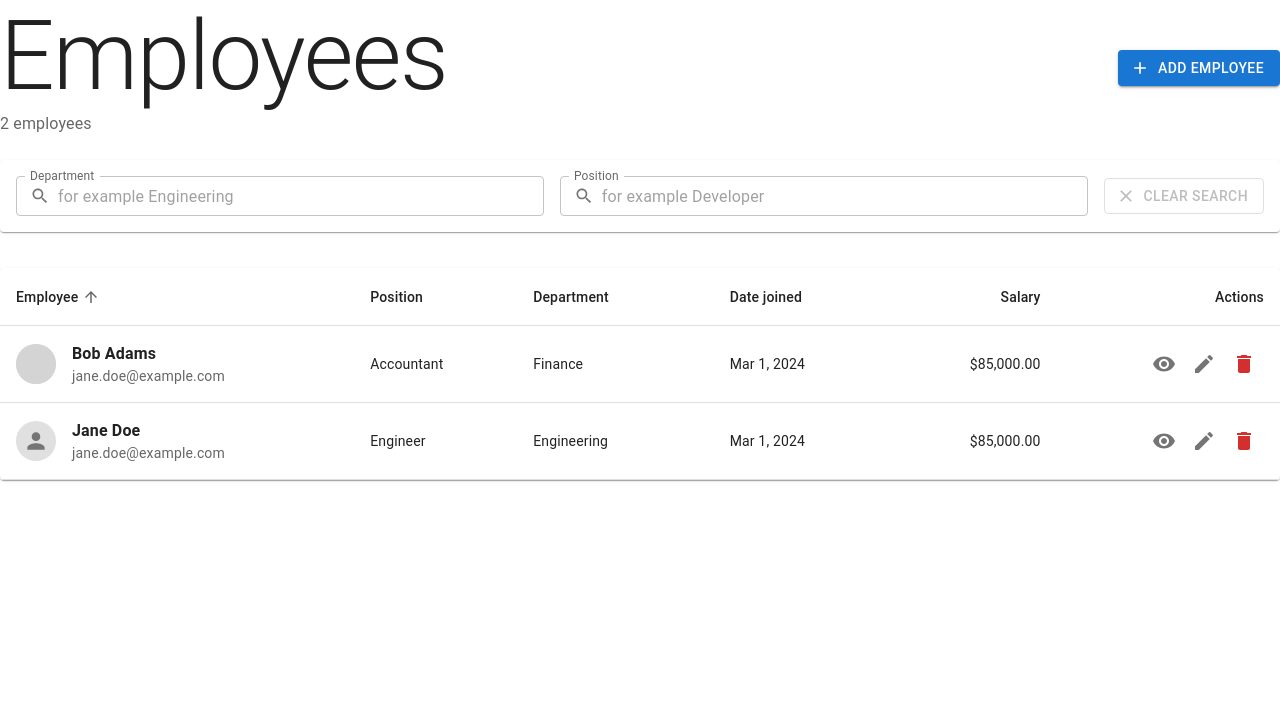
Scenario: EmployeeListPage: deleting › does nothing when the user cancels
The image size is (1280, 720).
Step 1. Click the button named "Delete Jane Doe" → (1244, 441), box 1224,421 -> 1264,461
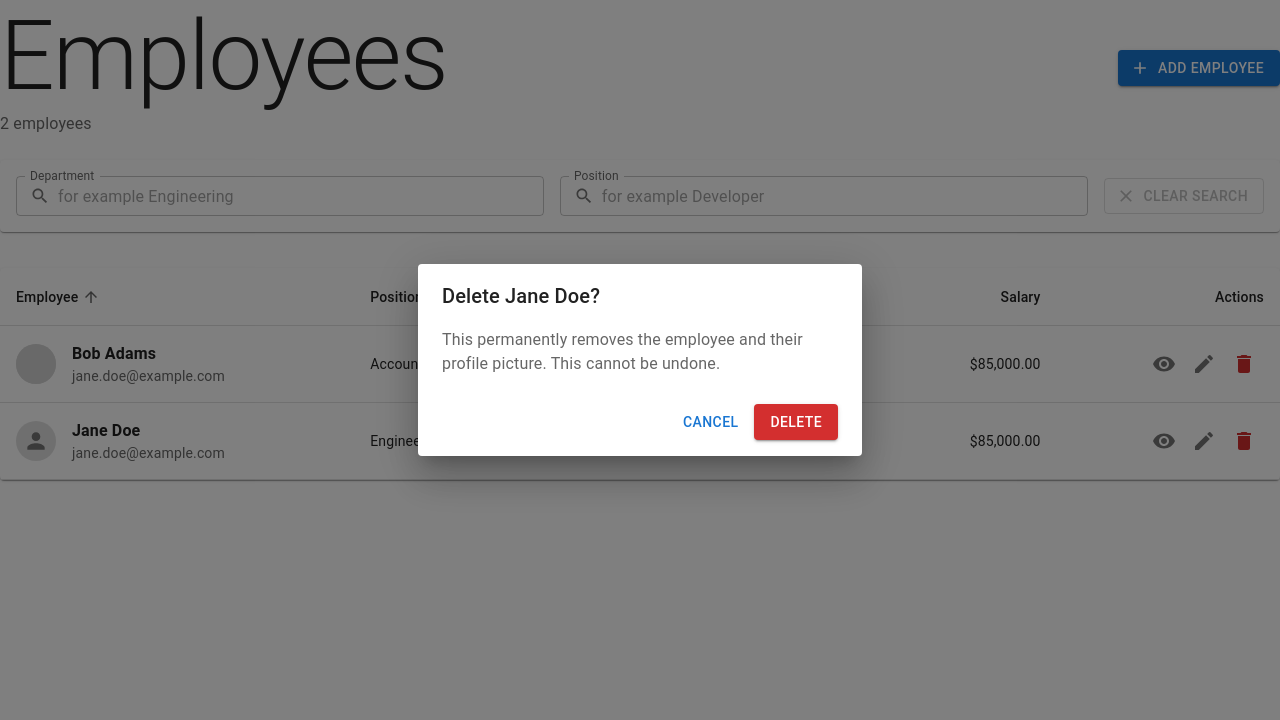
Step 2. Click the button "Cancel" → (711, 422), box 675,404 -> 746,440
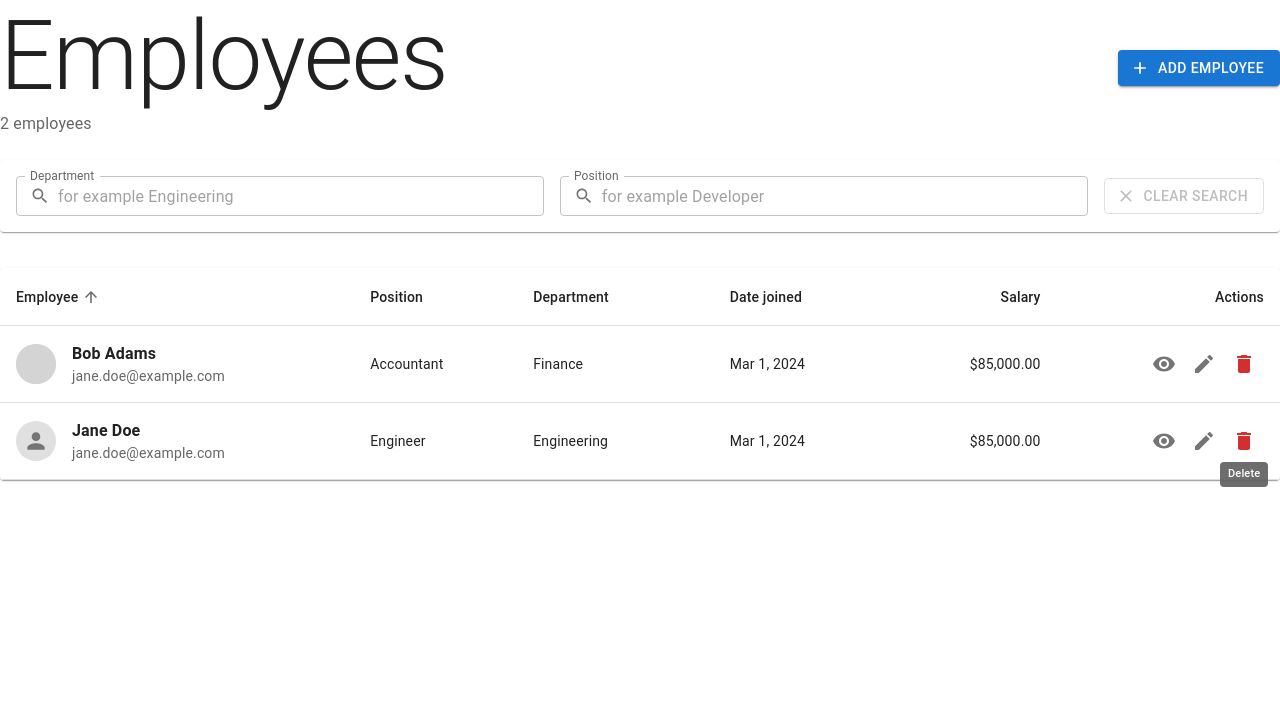
Expected: the row "Jane Doe" is shown, 0,403 -> 1279,480
Expected: the dialog is gone
